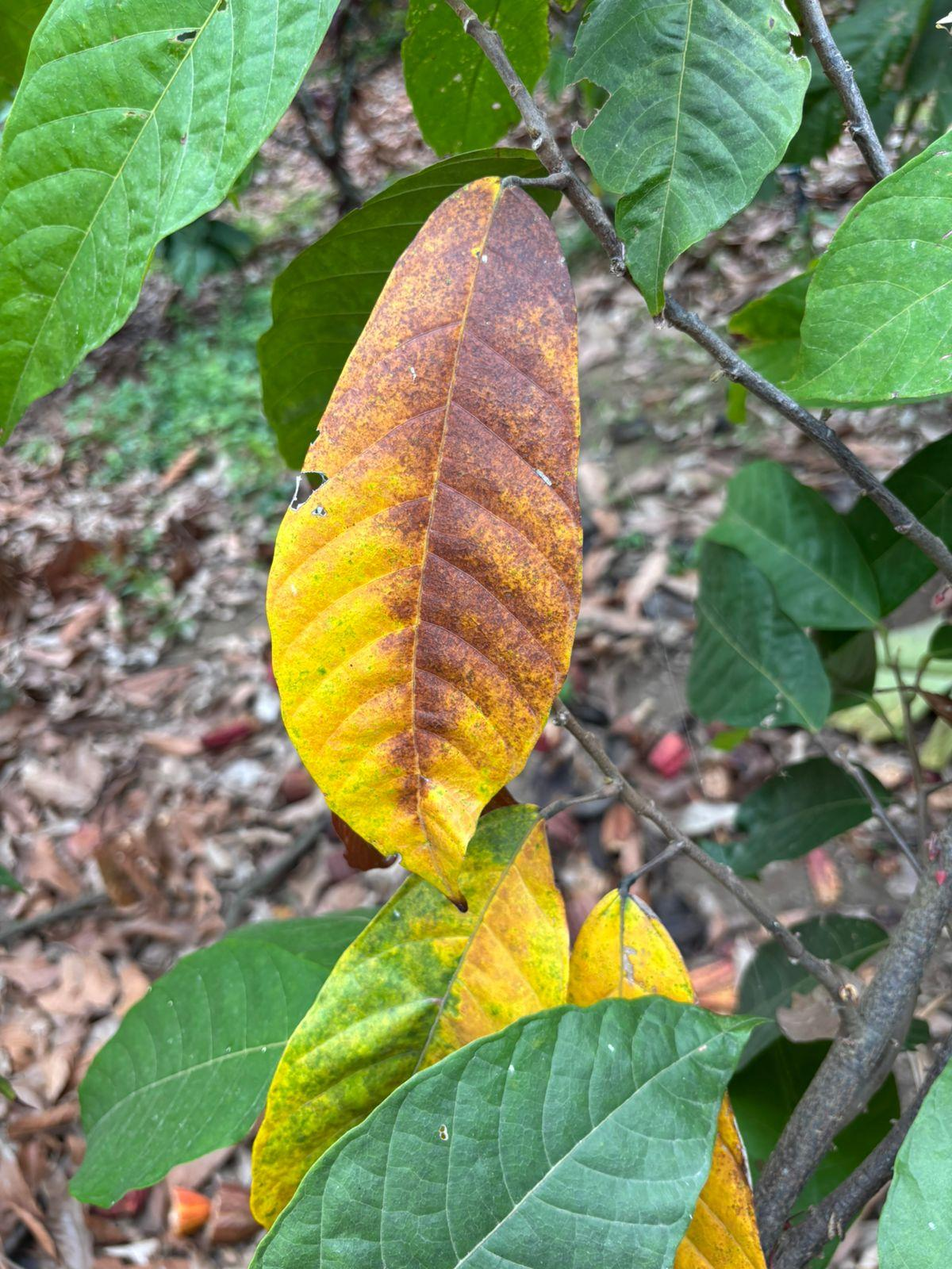Fosforo: (267, 176, 582, 906)
